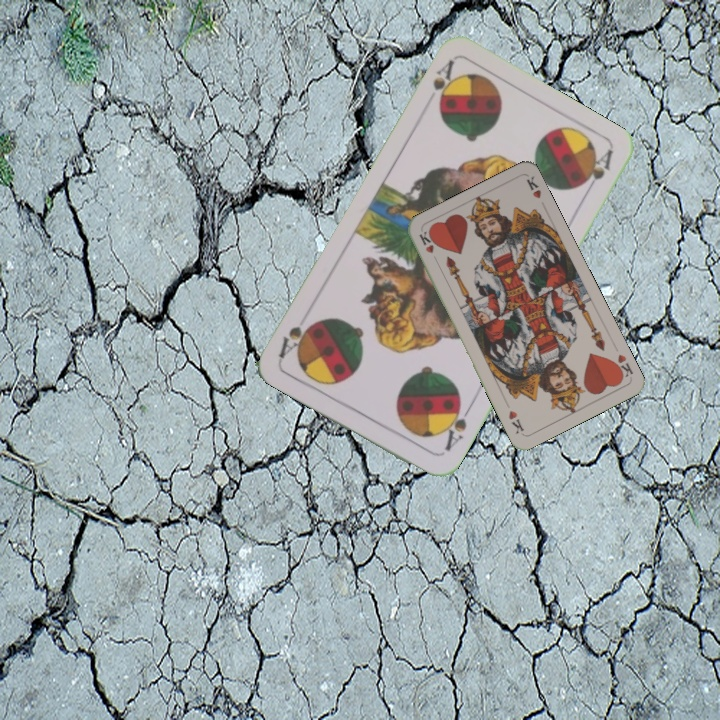HK: (609, 350, 636, 382), (415, 227, 436, 256)
SA: (437, 398, 474, 454), (428, 56, 463, 114)
